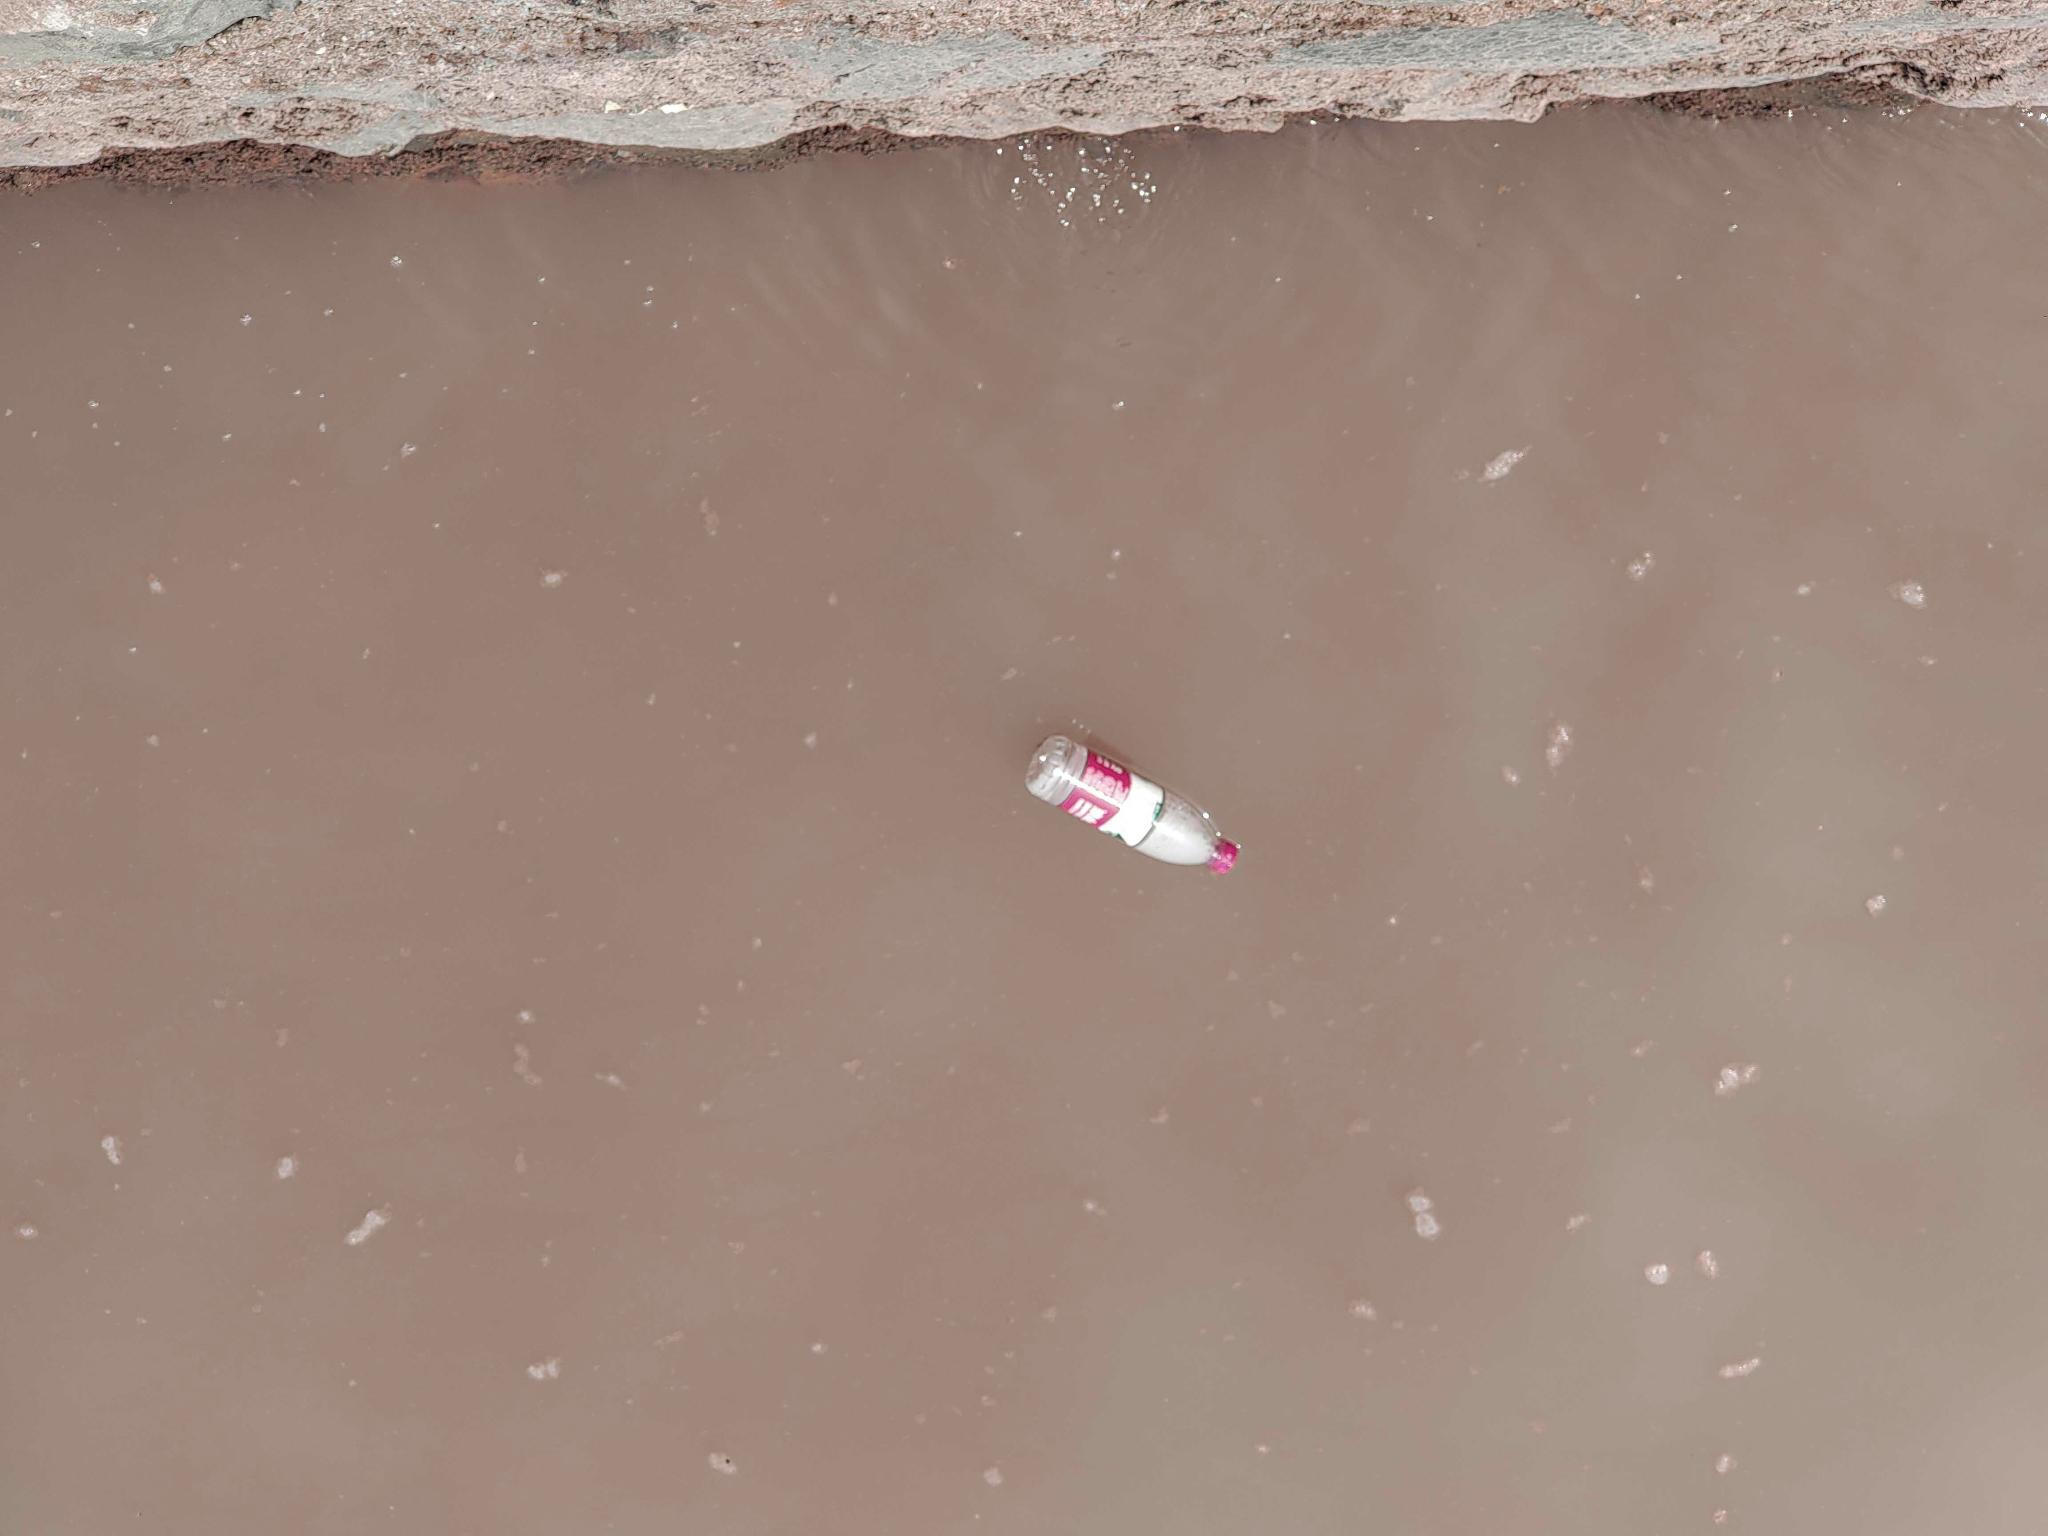Plastic: (1019, 737, 1253, 881)
